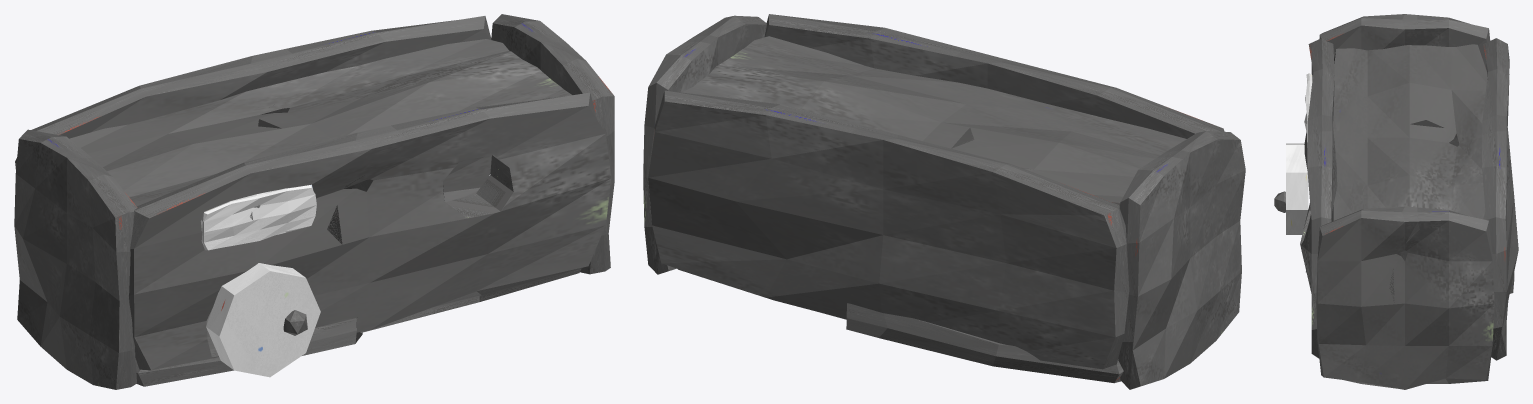
Rendered from Office.fbx.
3 views of the same model, side by side, from view 1: azimuth 30°, elevation 25°; view 2: azimuth 150°, elevation 25°; view 3: azimuth 270°, elevation 25° (orthographic). The views are drawn at different scales.
Visible parts, largest first — view 1: Rock_Wall_Half.001, Rock_Wall_Half, Rock_Wall_Half.006, Rock_Wall_Half.012, Rock_Wall_Half.007, Rock_Wall_Half.013, Door, Rock_Wall_Half.003, Rock_Wall_Half.002, Rock_Wall_Half.008, Rock_Wall_Half.015, Rock_Wall_Half.004 (+2 smaller); view 2: Rock_Wall_Half.002, Rock_Wall_Half.003, Rock_Wall_Half.006, Rock_Wall_Half.013, Rock_Wall_Half.007, Rock_Wall_Half.012, Rock_Wall_Half, Rock_Wall_Half.001, Rock_Wall_Half.004, Rock_Wall_Half.014, Rock_Wall_Half.015; view 3: Rock_Wall_Half.014, Rock_Wall_Half.015, Rock_Wall_Half.007, Rock_Wall_Half.006, Rock_Wall_Half.002, Rock_Wall_Half.001, Rock_Wall_Half.012, Rock_Wall_Half, Rock_Wall_Half.003, Door, Rock_Wall_Half.013, Rock_Wall_Half.008.
Part boxes in pixels (x1,y1,x2,y2): Rock_Wall_Half.001: (327,92,611,332); Rock_Wall_Half: (129,125,409,370); Rock_Wall_Half.006: (258,39,572,135); Rock_Wall_Half.012: (55,151,137,389); Rock_Wall_Half.007: (69,78,346,206); Rock_Wall_Half.013: (14,129,84,371); Door: (206,263,320,377); Rock_Wall_Half.003: (15,49,304,168); Rock_Wall_Half.002: (286,16,491,192); Rock_Wall_Half.008: (200,184,316,250); Rock_Wall_Half.015: (529,35,614,274); Rock_Wall_Half.004: (135,309,362,386); Rock_Wall_Half.002: (648,90,925,319); Rock_Wall_Half.003: (842,126,1129,369); Rock_Wall_Half.006: (682,36,993,148); Rock_Wall_Half.013: (1118,157,1199,389); Rock_Wall_Half.007: (950,90,1186,206); Rock_Wall_Half.012: (1157,131,1245,359); Rock_Wall_Half: (947,49,1224,138); Rock_Wall_Half.001: (764,14,967,84); Rock_Wall_Half.004: (846,303,1123,383); Rock_Wall_Half.014: (643,41,714,274); Rock_Wall_Half.015: (685,15,766,66); Rock_Wall_Half.014: (1389,207,1494,389); Rock_Wall_Half.015: (1316,206,1417,388); Rock_Wall_Half.007: (1333,44,1487,151); Rock_Wall_Half.006: (1332,124,1485,221); Rock_Wall_Half.002: (1482,131,1518,360); Rock_Wall_Half.001: (1300,131,1337,358); Rock_Wall_Half.012: (1319,14,1419,56); Rock_Wall_Half: (1304,38,1334,168); Rock_Wall_Half.003: (1482,38,1509,143); Door: (1274,143,1308,234); Rock_Wall_Half.013: (1412,15,1490,67); Rock_Wall_Half.008: (1304,73,1312,147).
Size of the model in its own units: 25.74 by 10.04 by 12.6.
